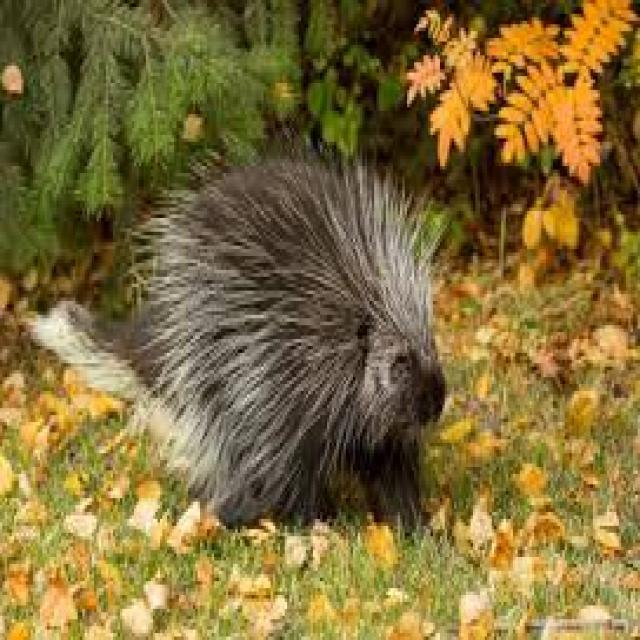Porcupine: (132, 162, 450, 518)
